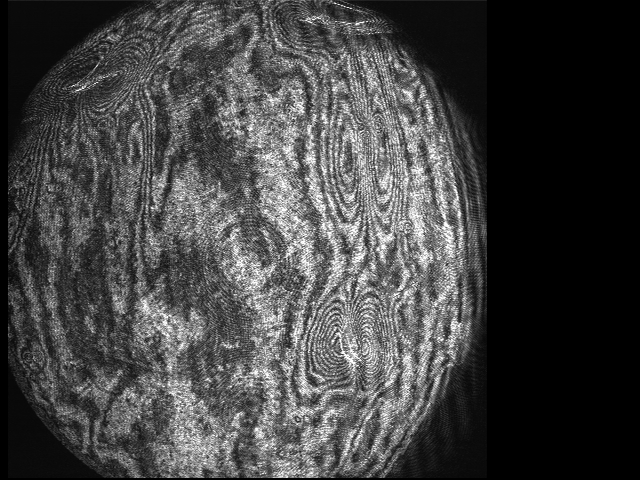plume: (305, 297, 391, 396)
